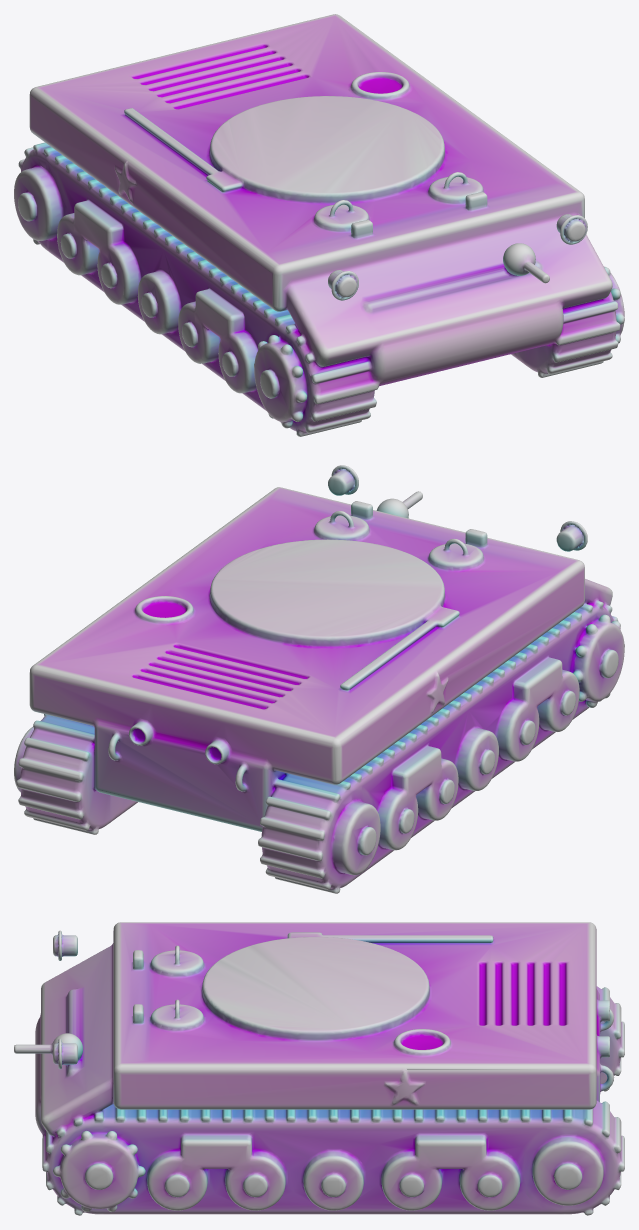
File: tank.glb
The picture shows the model from 3 angles, top to bottom: view 1: azimuth 30°, elevation 25°; view 2: azimuth 150°, elevation 25°; view 3: azimuth 270°, elevation 25°; orthographic projection. The views are drawn at different scales.
Parts seen in each view (by area): view 1: tank; view 2: tank; view 3: tank.
Boxes of the visible parts, x1,y1,x2,y2 form: tank: (14,14,624,436); tank: (14,465,624,893); tank: (14,922,624,1215).
Size of the model in its own units: 1.09 by 0.5315 by 1.72.
